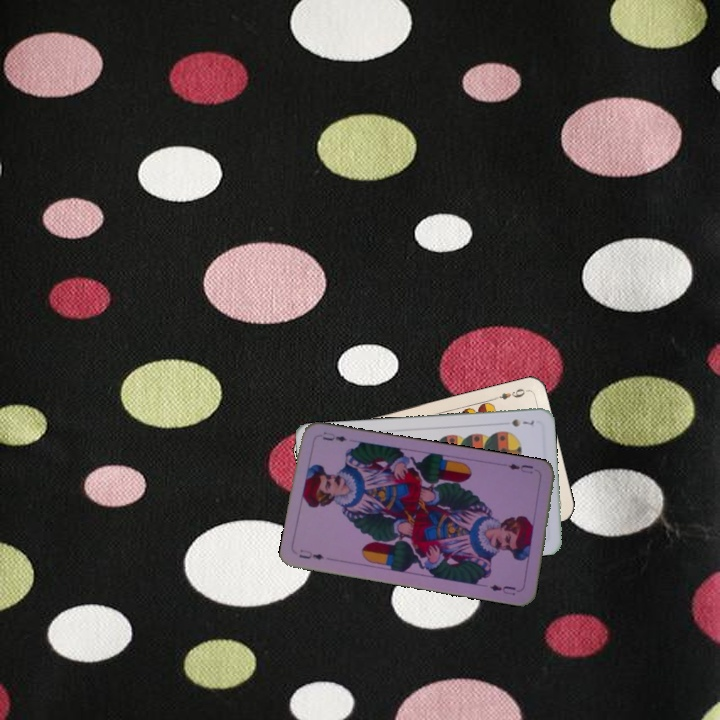E9: (490, 385, 530, 403)
EU: (295, 545, 327, 562), (504, 460, 535, 476)
S7: (508, 415, 537, 429)
